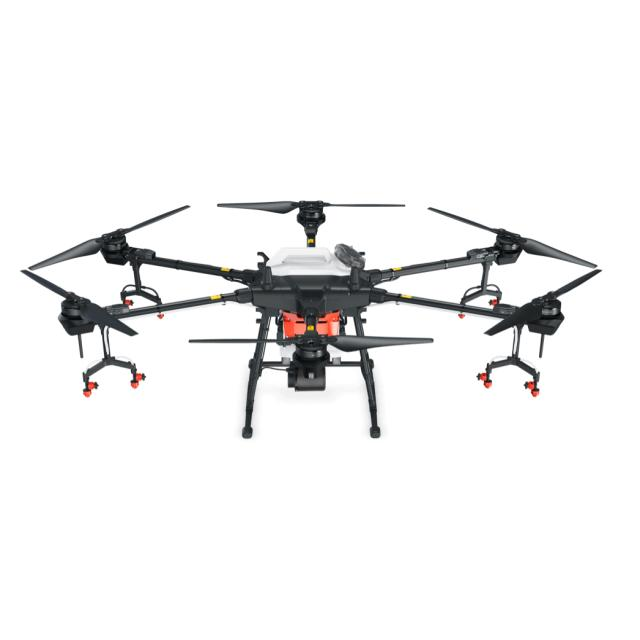drone: (33, 185, 606, 460)
